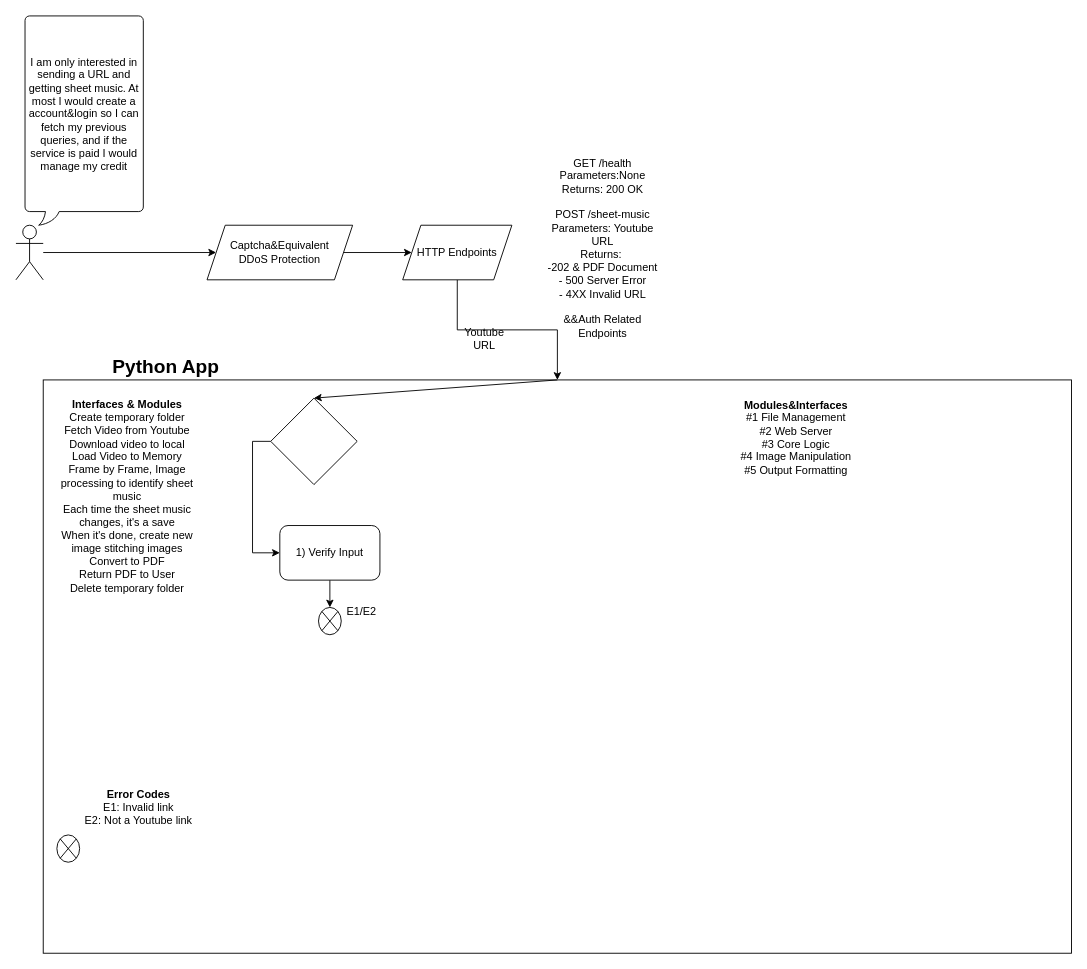
Image size: 1087x969. Some labels were removed from this diagram. Here are the shapes that lost their labels. From the top down, the box of each, then its label:
(15, 224, 43, 280): User
(270, 397, 357, 485): Process Begins
